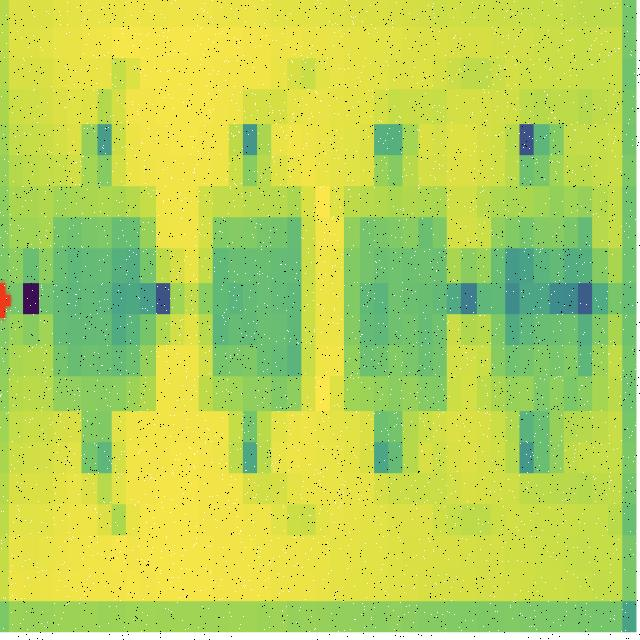Concrete: (47, 173, 159, 432)
Glass: (476, 163, 610, 443)
Metal: (185, 175, 316, 432)
Wood: (334, 168, 457, 440)
